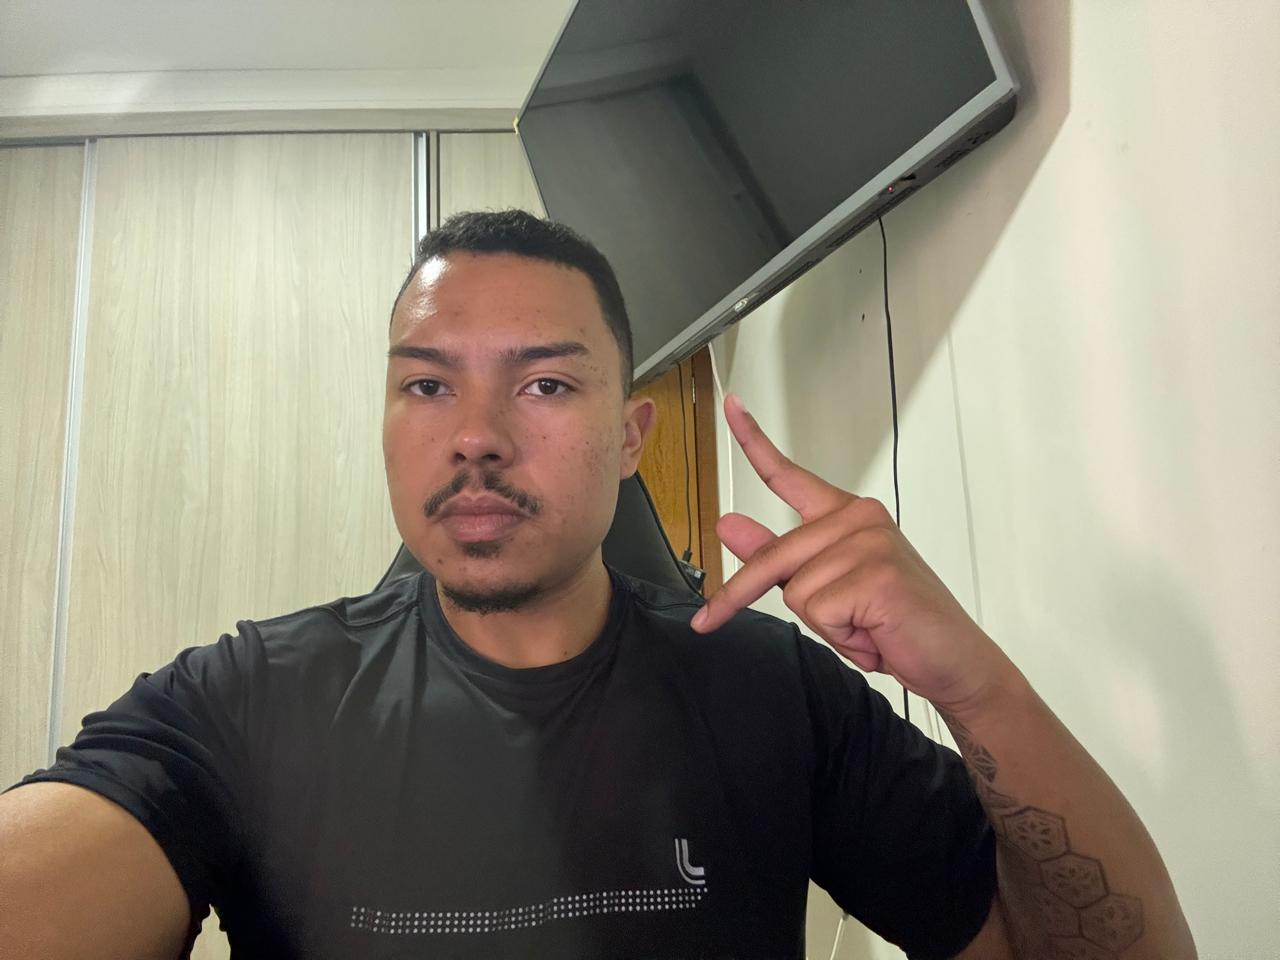p: (684, 381, 1001, 718)
